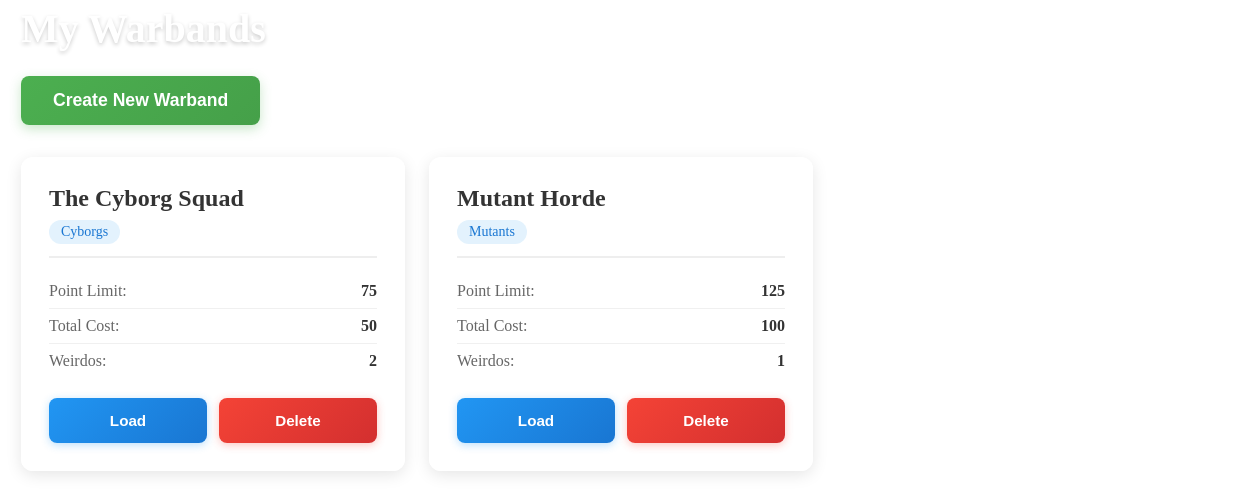
Test: WarbandList Component › Deleting a warband › should display error when deletion fails
Expected: the heading "The Cyborg Squad" is shown, [49,185,244,211]
Click the button "Delete" below "50" at (298, 420), box [219,398,377,443]
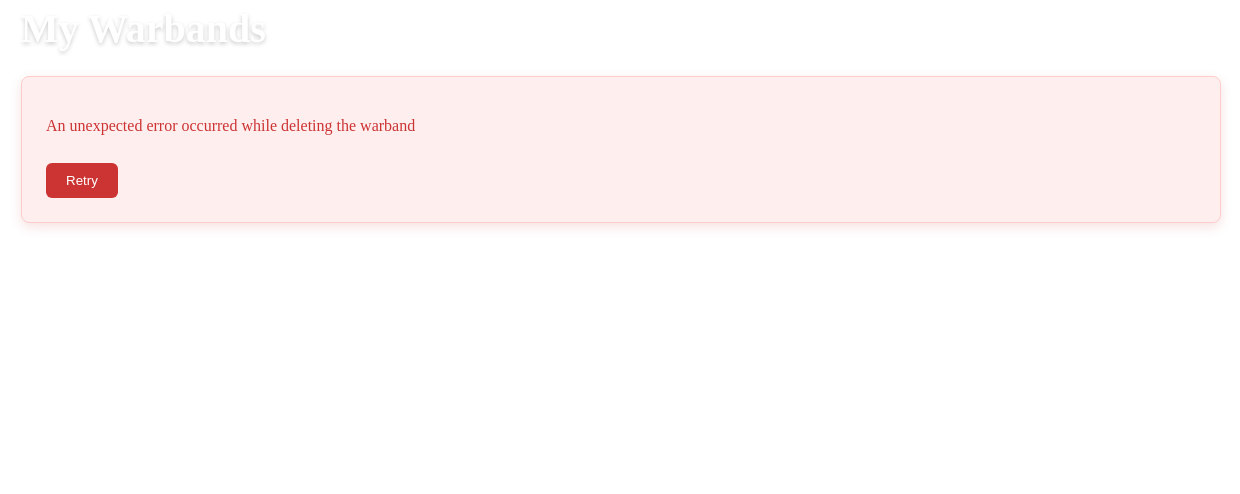
Expected: the text "An unexpected error occurred while deleting the warband" is shown, [46,117,415,134]
